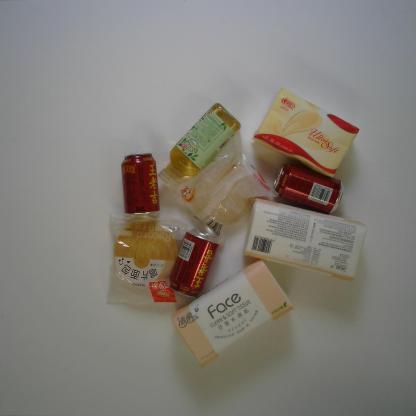Dessert: (174, 144, 282, 239), (102, 213, 191, 304)
Drink: (158, 101, 244, 192), (271, 158, 344, 217), (167, 228, 223, 301), (116, 150, 162, 219)
Tissue: (167, 256, 294, 370), (241, 197, 368, 284), (250, 85, 361, 177)
